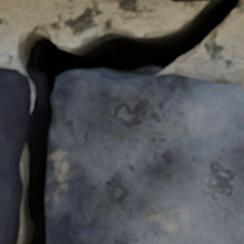brick: (172, 0, 200, 1)
broken_brick: (46, 69, 243, 243), (0, 67, 24, 243)
crack: (1, 0, 242, 243)
